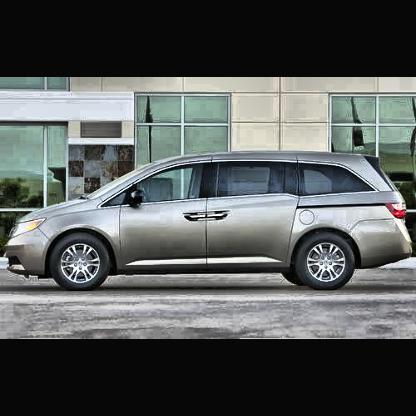Honda Odyssey Minivan 2012: (6, 150, 416, 290)
